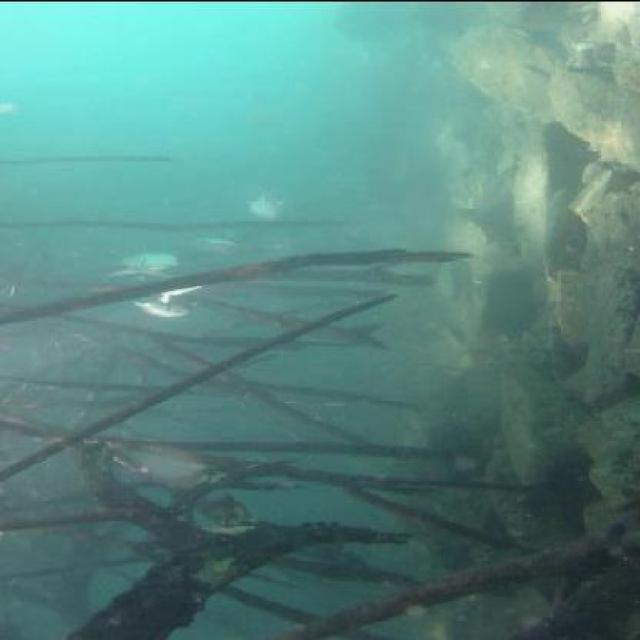Caranx_sexfasciatus_juvenile: (120, 278, 212, 316), (98, 246, 178, 276), (241, 188, 302, 222), (179, 226, 247, 254)
